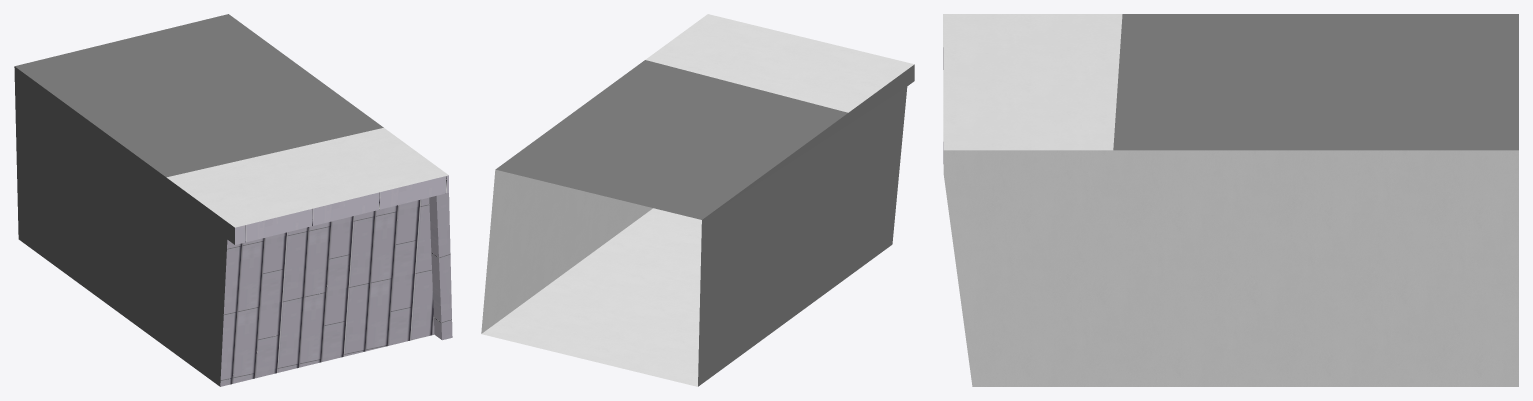
File: Viru_23_2-origo.obj
3 renders of one model, left to right at view 1: azimuth 30°, elevation 25°; view 2: azimuth 150°, elevation 25°; view 3: azimuth 270°, elevation 25°, orthographic. The views are drawn at different scales.
Parts seen in each view (by area): view 1: Viru_23_2; view 2: Viru_23_2; view 3: Viru_23_2.
Boxes of the visible parts, x1,y1,x2,y2 form: Viru_23_2: [14, 14, 452, 386]; Viru_23_2: [481, 14, 914, 386]; Viru_23_2: [943, 14, 1518, 386].
Bounding box in the file's own units: 6.88 × 5 × 11.48.
Materials: 3 (2 with a texture image).
